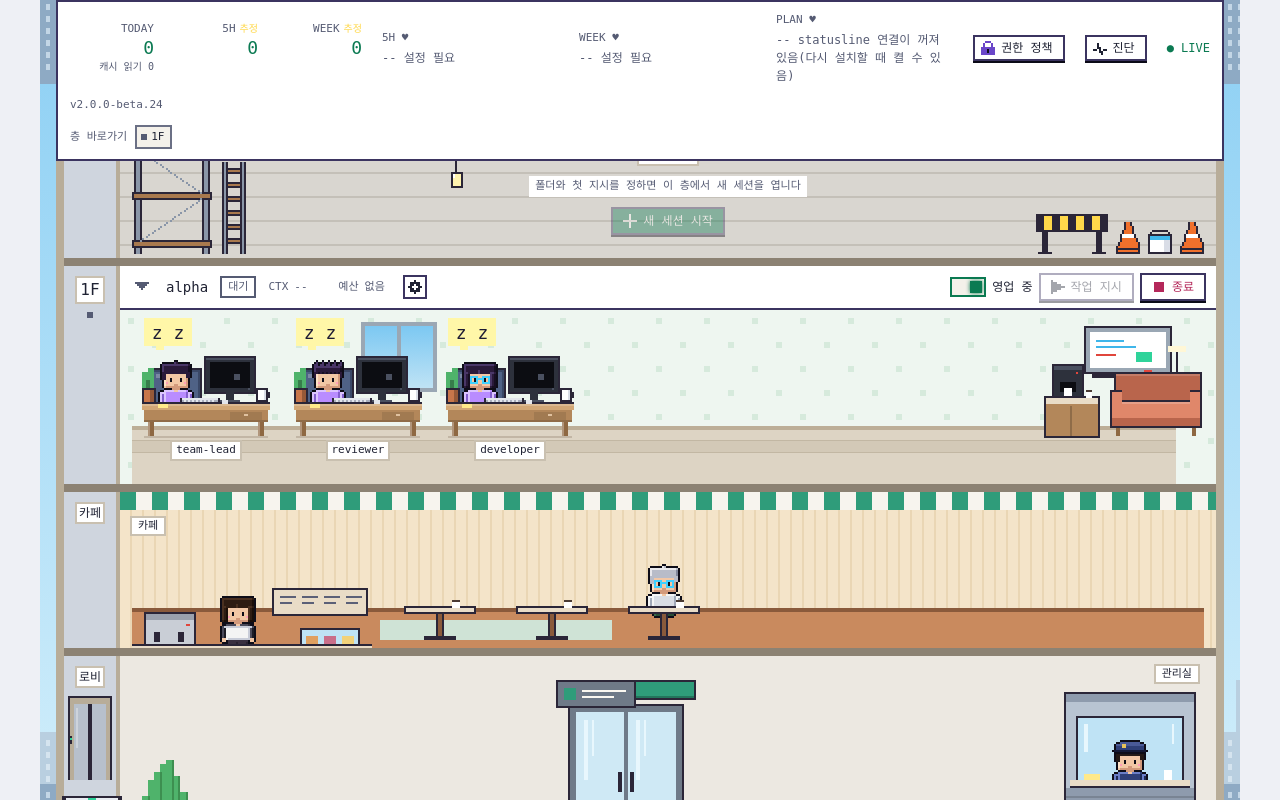
Test: 편집과 저장 › 바꾼 값이 있으면 저장하지 않았다고 알리고, 저장 전에는 PUT이 없다
(page scrolled)
Step 1. Click the button with test id "desk-reviewer" → (358, 401), box [292,318,424,484]
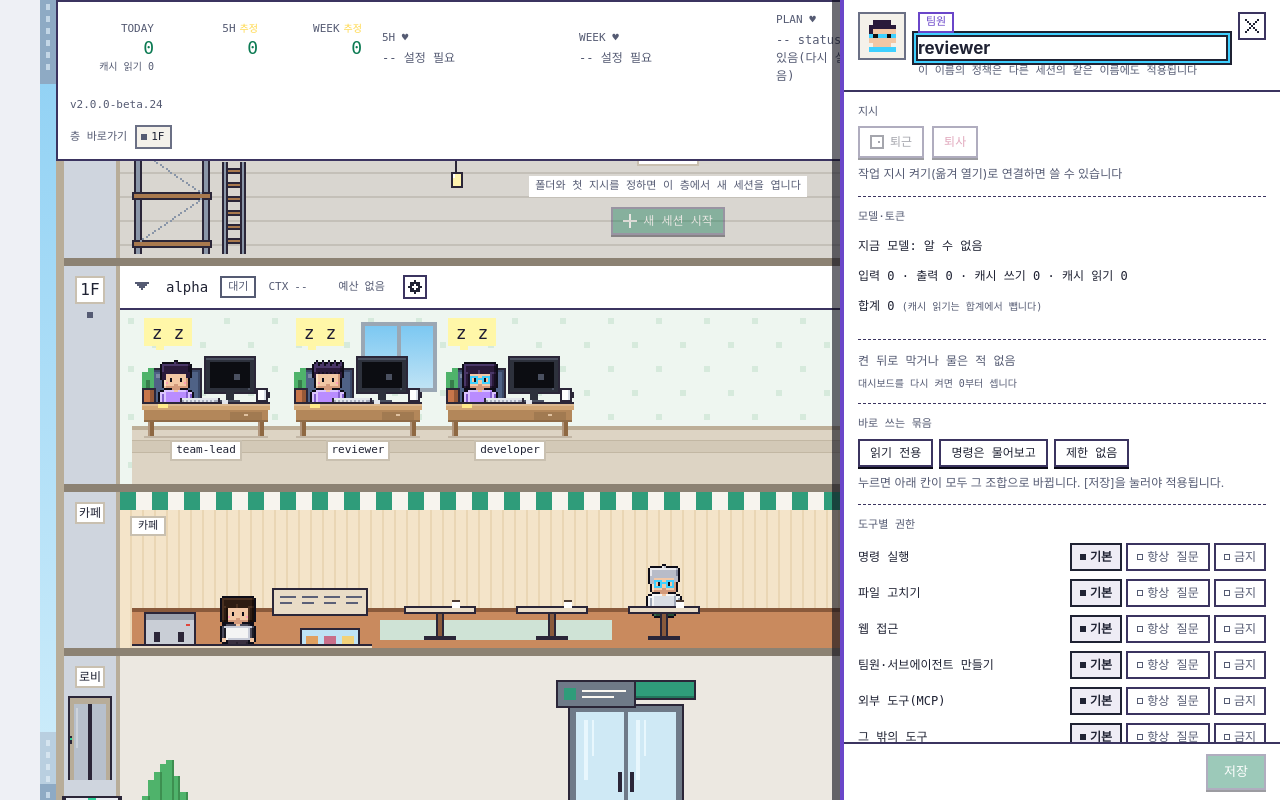
expect the dialog "." does not show "저장하지 않은 변경이 있습니다": met
Step 2. Click the radio button labelled "금지" in the row of "명령 실행" → (1240, 557), box [1214,543,1266,571]
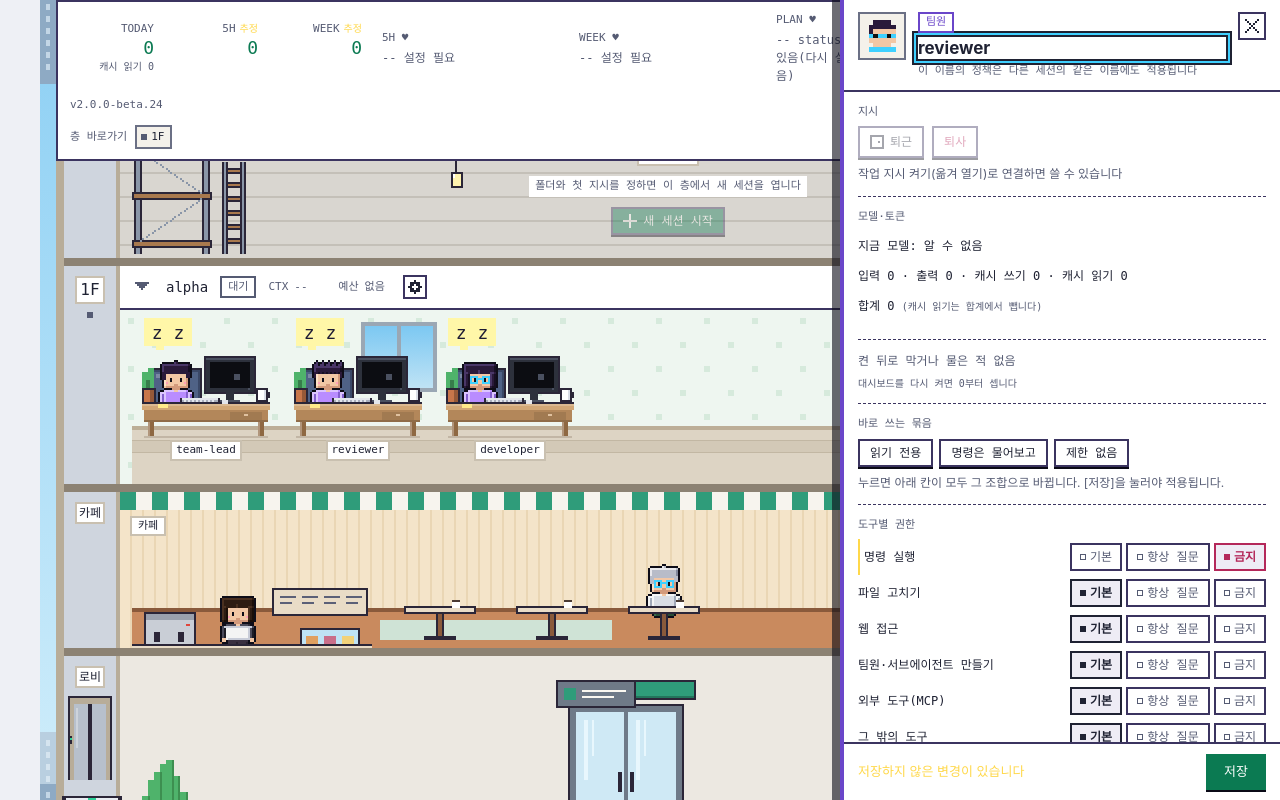
expect the dialog named "." shows "저장하지 않은 변경이 있습니다": met, box [858,763,1024,779]
Step 3. Click the radio button labelled "기본" next to "명령 실행" → (1096, 557), box [1070,543,1122,571]
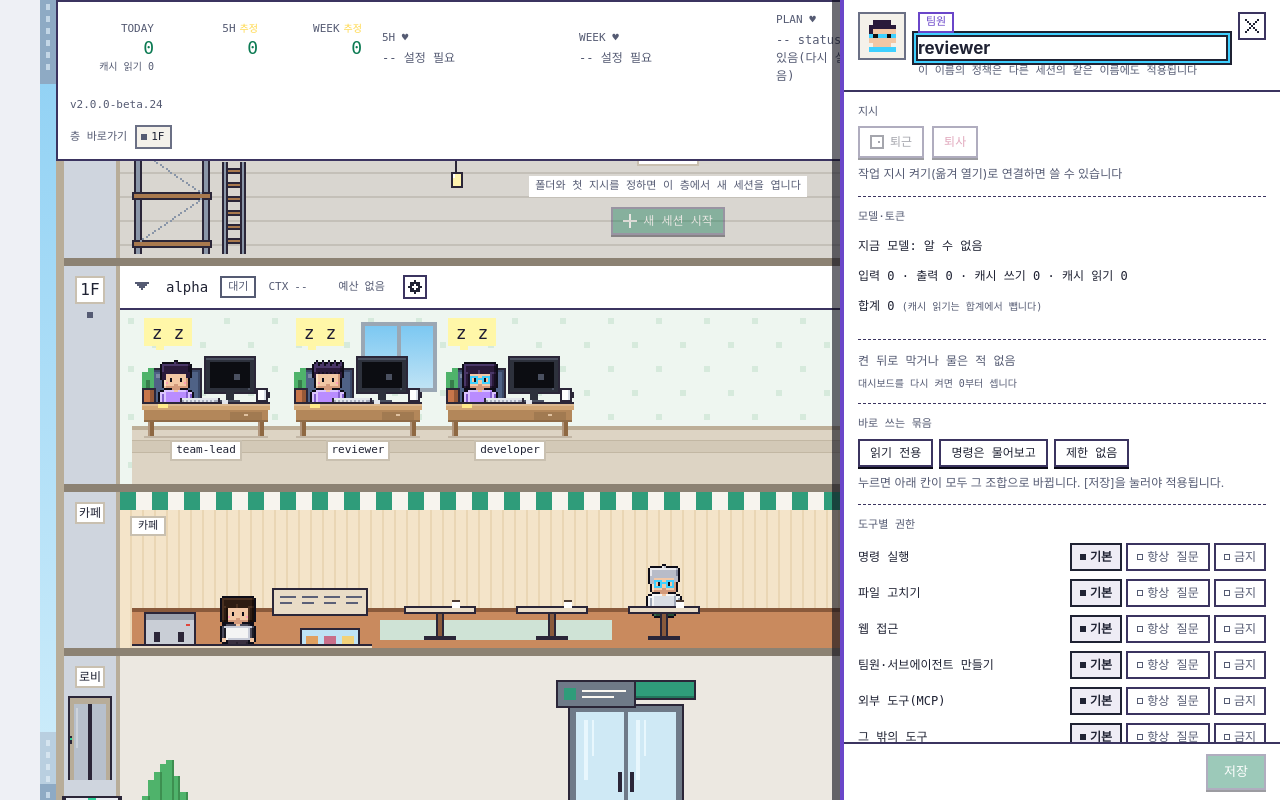
expect the text "." no longer shows "저장하지 않은 변경이 있습니다": met
